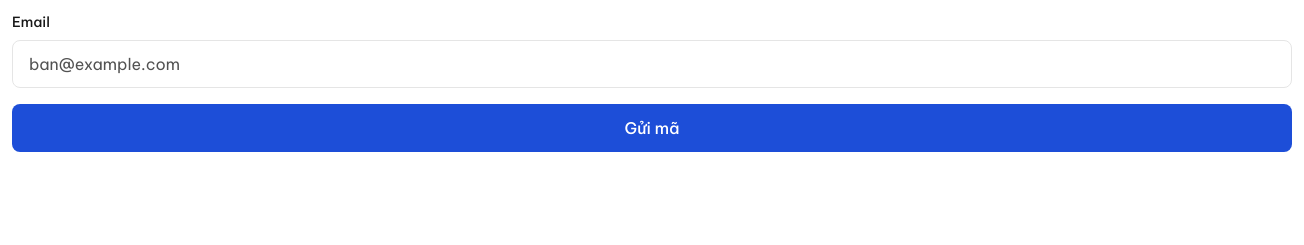
Scenario: OtpSignInForm › đếm ngược giảm dần mỗi giây rồi mở lại nút gửi lại mã
The image size is (1304, 245).
Later steps or results of the test are not shown.
Type "sv@example.com" into the field labelled "Email" at (652, 64), box [12, 40, 1292, 88]
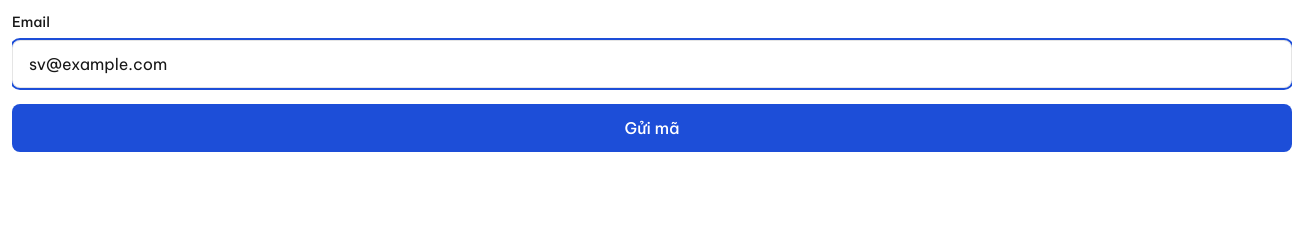
Click the button "Gửi mã" at (652, 128), box [12, 104, 1292, 152]
Wait 63000 ms
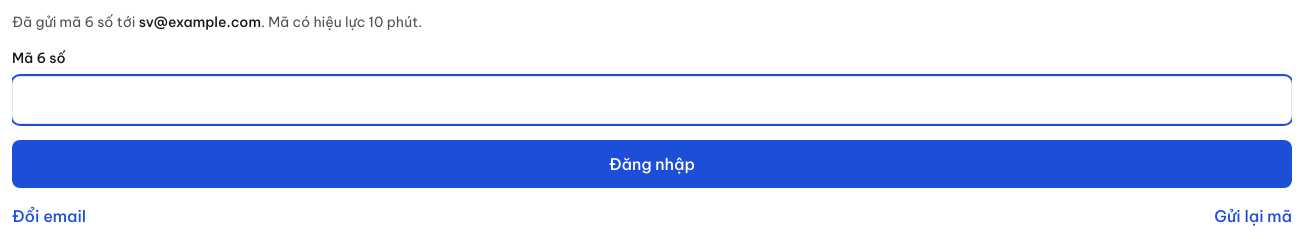
expect the button "Gửi lại mã" is enabled: met, box [1214, 204, 1292, 228]
